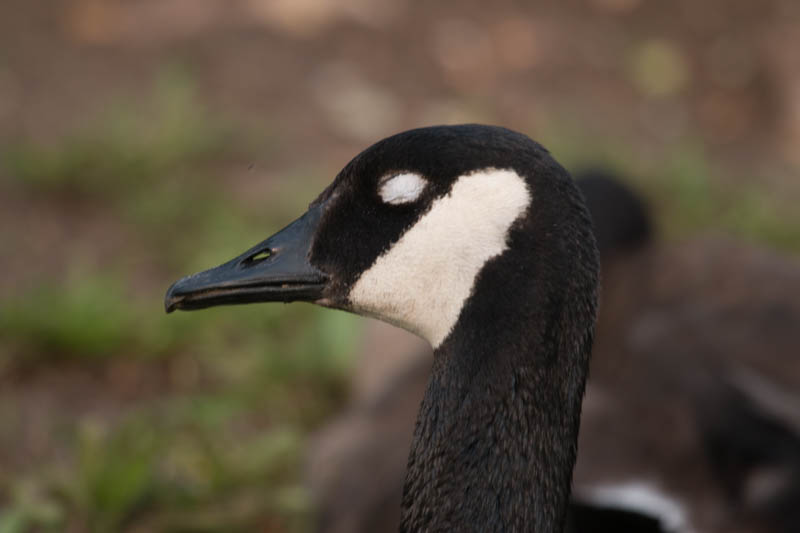goose-head: (163, 123, 599, 352)
